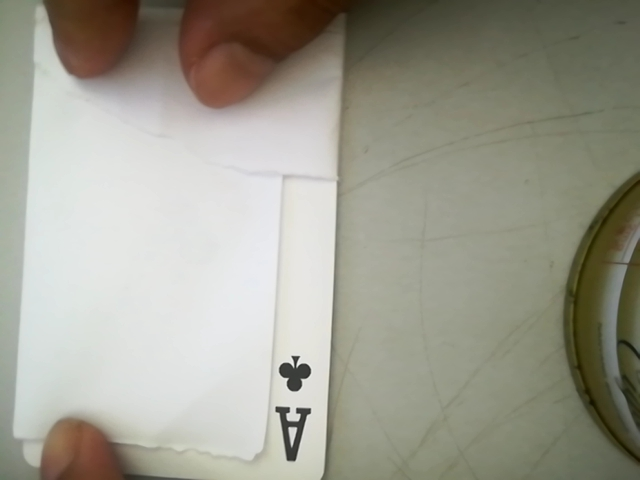mh a: (257, 343, 324, 473)
